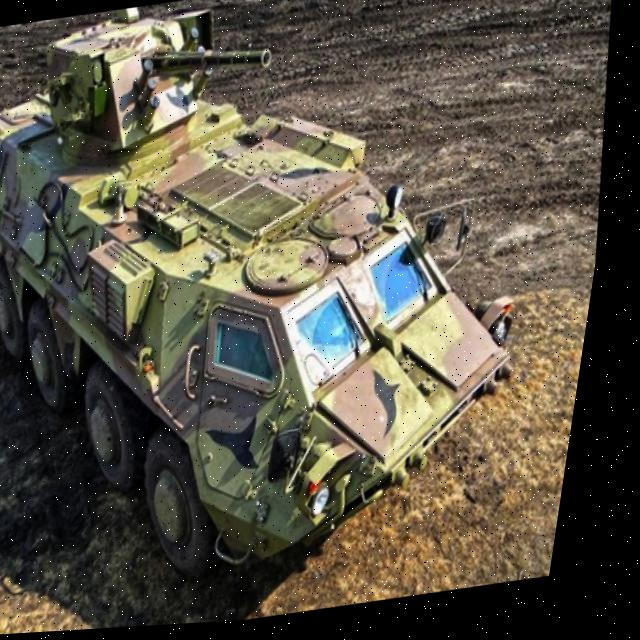MIL_APC: (0, 0, 613, 611)
